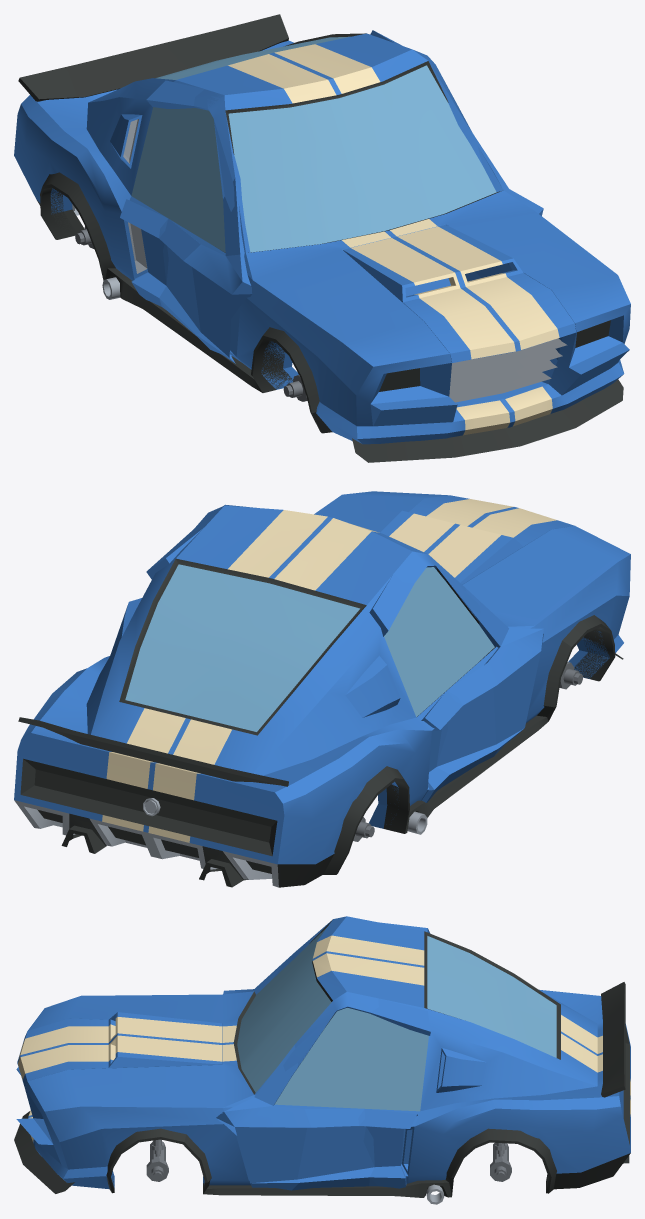
Rendered from macchina_blu_2.fbx.
3 views of the same model, one above another, from view 1: azimuth 30°, elevation 25°; view 2: azimuth 150°, elevation 25°; view 3: azimuth 270°, elevation 25° (orthographic). The views are drawn at different scales.
Parts seen in each view (by area): view 1: scocca_blu, cofano_1, porta_rotta_dx_1, porta_nuova_dx_1, porta_rotta_sx_2; view 2: scocca_blu, porta_rotta_dx_1, porta_nuova_dx_1, cofano_1, porta_rotta_sx_2; view 3: scocca_blu, porta_rotta_sx_2, porta_nuova_sx_2, cofano_1, porta_rotta_dx_1.
Part boxes in pixels (bbox=[...]): scocca_blu: bbox=[14, 14, 630, 462]; cofano_1: bbox=[343, 224, 576, 362]; porta_rotta_dx_1: bbox=[120, 80, 252, 363]; porta_nuova_dx_1: bbox=[129, 80, 252, 361]; porta_rotta_sx_2: bbox=[370, 30, 543, 215]; scocca_blu: bbox=[14, 491, 630, 887]; porta_rotta_dx_1: bbox=[369, 551, 543, 802]; porta_nuova_dx_1: bbox=[367, 552, 535, 800]; cofano_1: bbox=[380, 495, 574, 584]; porta_rotta_sx_2: bbox=[146, 505, 224, 579]; scocca_blu: bbox=[14, 916, 630, 1204]; porta_rotta_sx_2: bbox=[216, 992, 430, 1190]; porta_nuova_sx_2: bbox=[222, 992, 428, 1186]; cofano_1: bbox=[17, 1012, 221, 1086]; porta_rotta_dx_1: bbox=[223, 921, 430, 994].
Size of the model in its own units: 215 by 146 by 426.
1 material, 1 textured.
